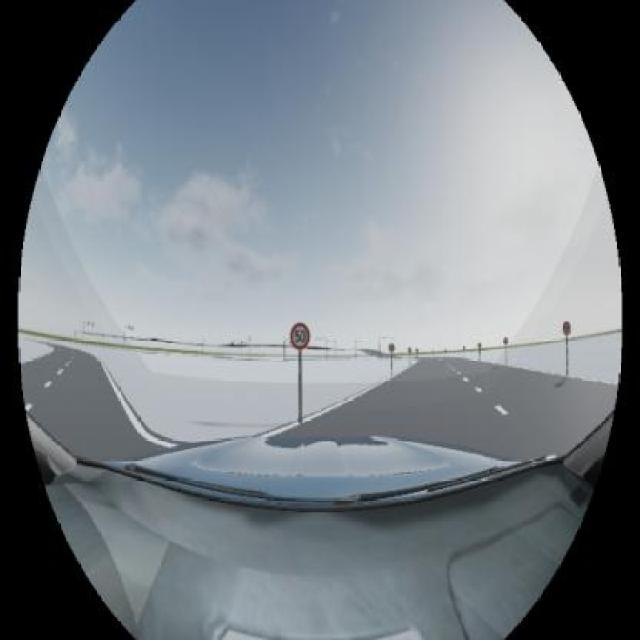forb_speed_over_50: (289, 322, 311, 349)
